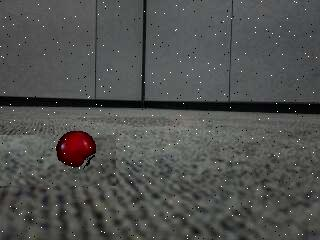Tomato: (55, 129, 98, 169)
